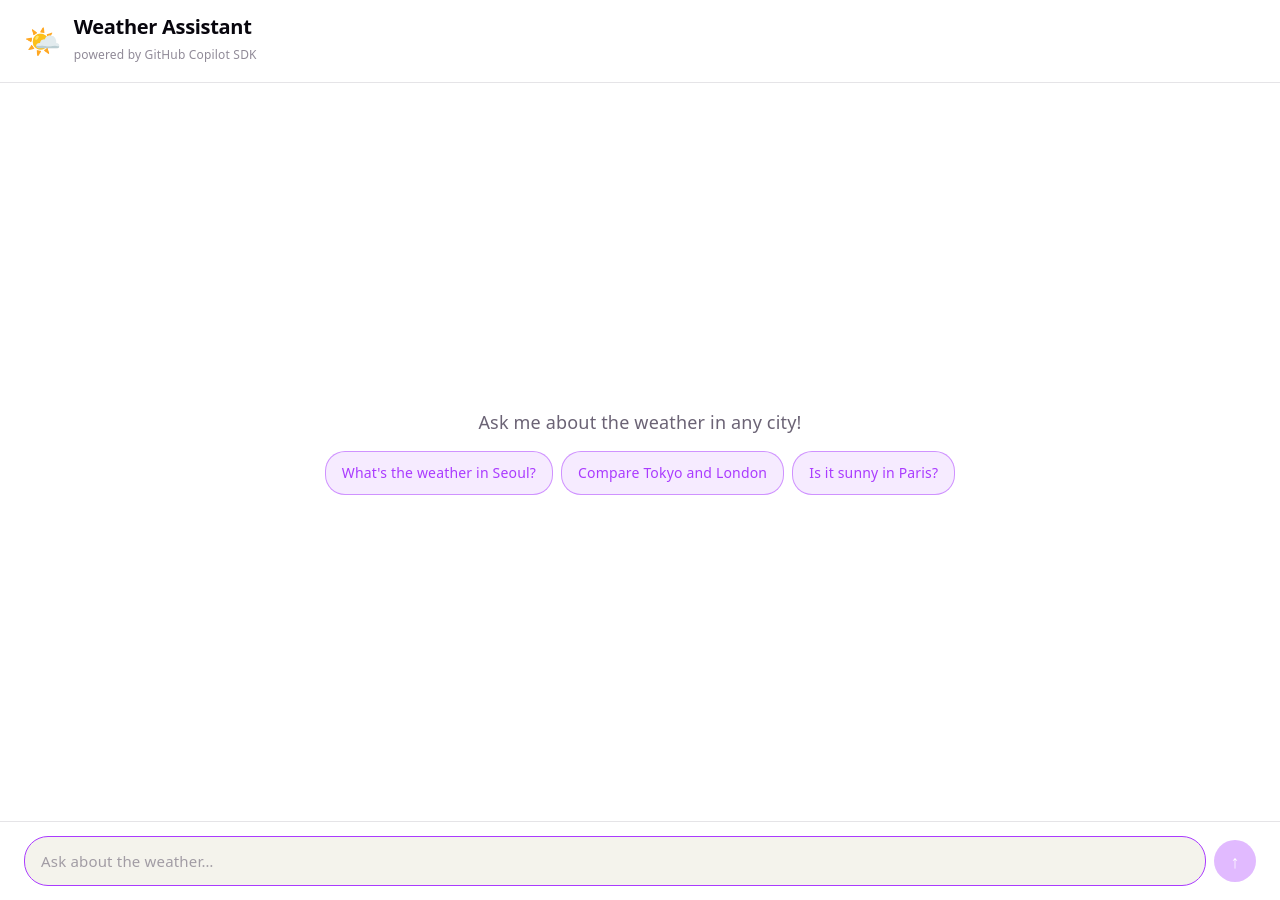
Test case: App: Weather Assistant UI › shows error alert when fetch rejects
Type "Weather?" into the field at (615, 861), box [24,836,1206,886]
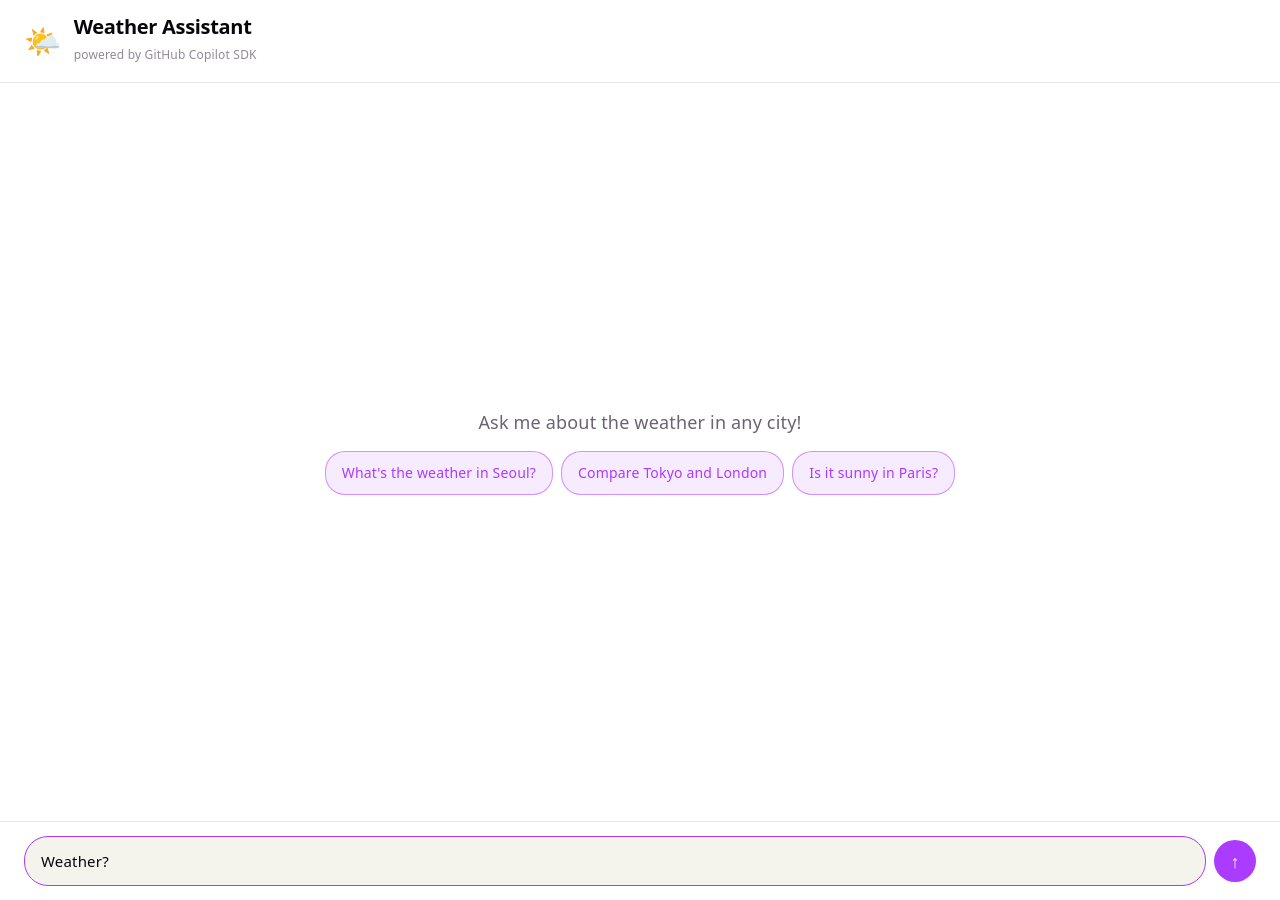
Submit the form, box [24,836,1256,886]
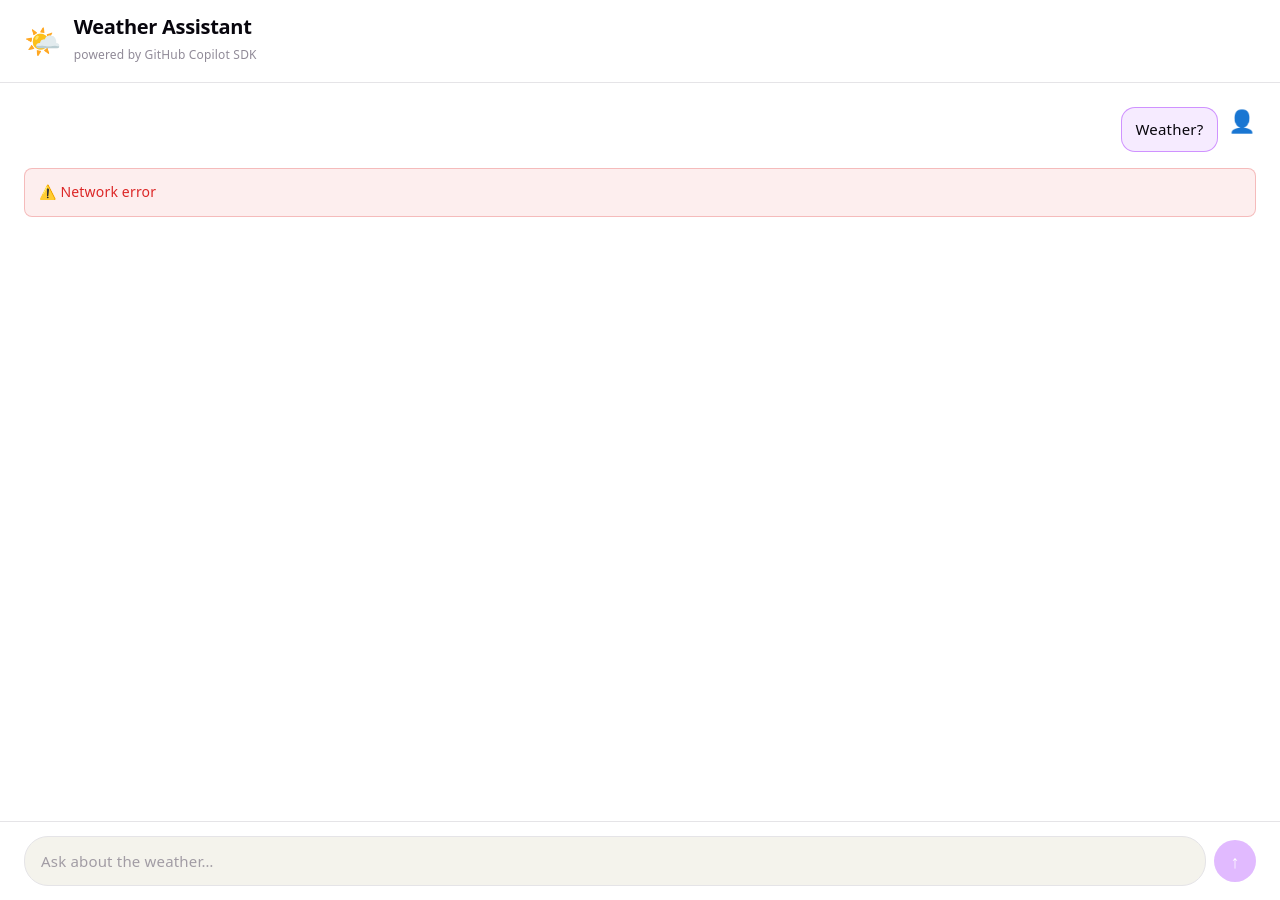
Check: the message "⚠️ Network error" is shown, box [24,168,1256,216]
Check: the message with test id "error" shows "Network error", box [60,182,156,201]
